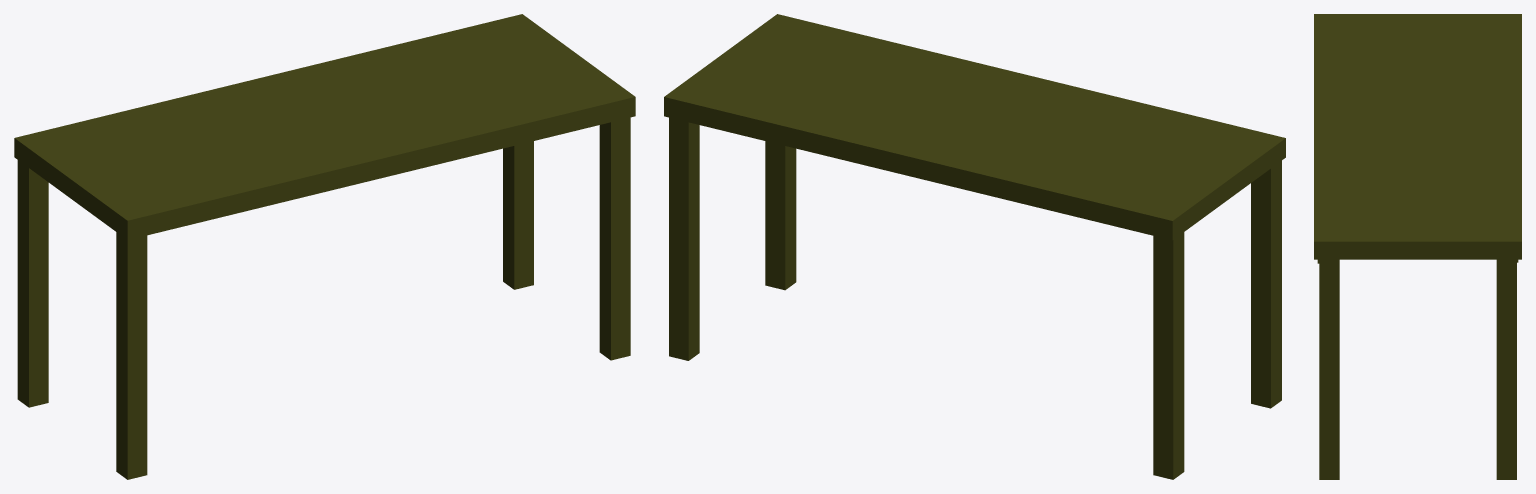
File: table_short.fbx
The picture shows the model from 3 angles, left to right: view 1: azimuth 30°, elevation 25°; view 2: azimuth 150°, elevation 25°; view 3: azimuth 270°, elevation 25°; orthographic projection. The views are drawn at different scales.
Parts seen in each view (by area): view 1: Cube; view 2: Cube; view 3: Cube.
Boxes of the visible parts, x1=… form: Cube: x1=14, y1=14, x2=635, y2=479; Cube: x1=664, y1=14, x2=1285, y2=479; Cube: x1=1314, y1=14, x2=1521, y2=479.
Size of the model in its own units: 403 by 198 by 156.
